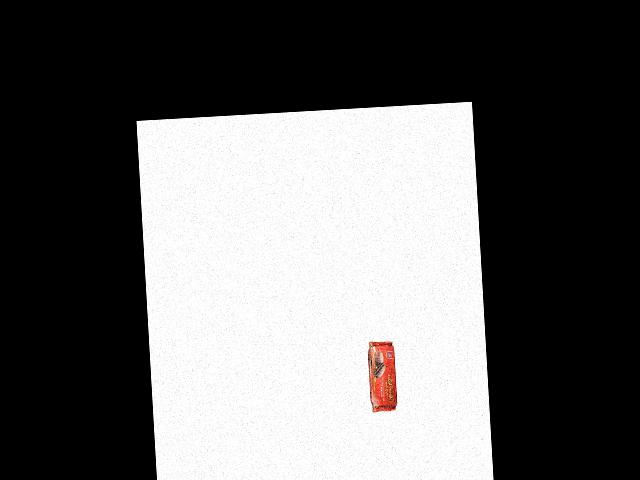chocolate: (360, 339, 398, 413)
